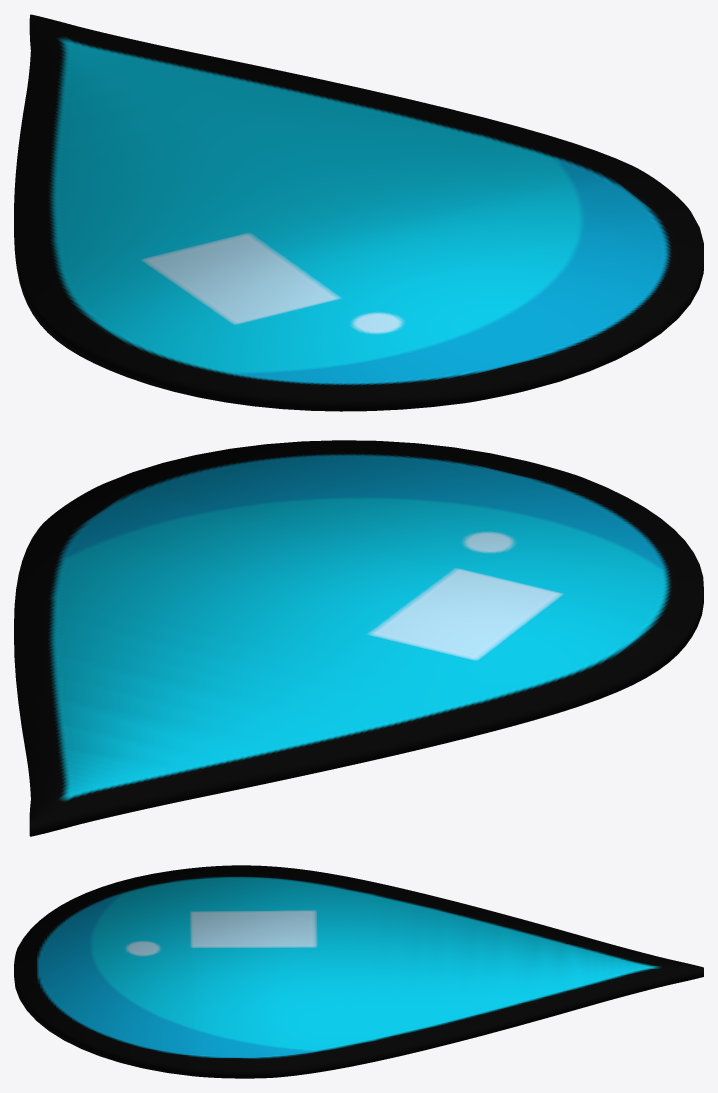
3 views of the same model, one above another, from view 1: azimuth 30°, elevation 25°; view 2: azimuth 150°, elevation 25°; view 3: azimuth 270°, elevation 25° (orthographic). The views are drawn at different scales.
Parts seen in each view (by area): view 1: path24; view 2: path24; view 3: path24.
Part boxes in pixels (x1,y1,x2,y2): path24: (14,14,703,411); path24: (14,440,703,836); path24: (14,865,703,1078).
Bounding box in the file's own units: 71.59 × 1.5 × 102.
1 material, 1 textured.
